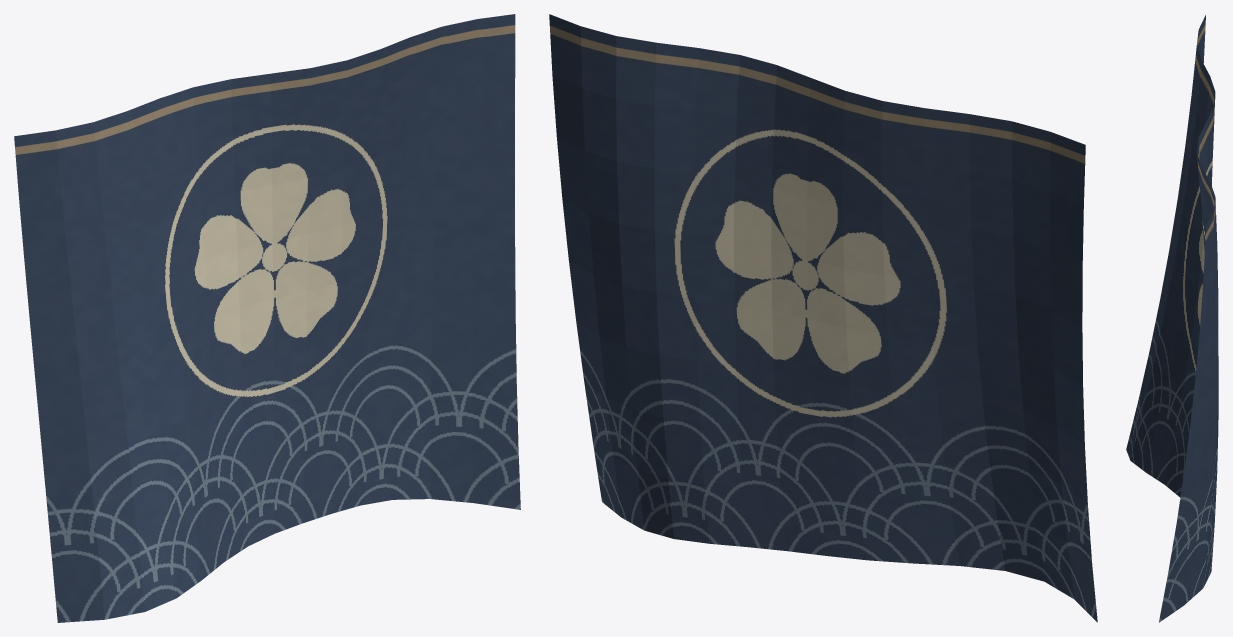
Rendered from bay_1.gltf.
The picture shows the model from 3 angles, left to right: view 1: azimuth 30°, elevation 25°; view 2: azimuth 150°, elevation 25°; view 3: azimuth 270°, elevation 25°; orthographic projection. The views are drawn at different scales.
Visible parts, largest first — view 1: indigo_noren; view 2: indigo_noren; view 3: indigo_noren.
Boxes of the visible parts, box(x1,y1,x2,y2) form: indigo_noren: box(14, 14, 520, 622); indigo_noren: box(549, 14, 1097, 622); indigo_noren: box(1126, 15, 1218, 622).
Size of the model in its own units: 0.68 by 0.61 by 0.1258.
1 material, 1 textured.
